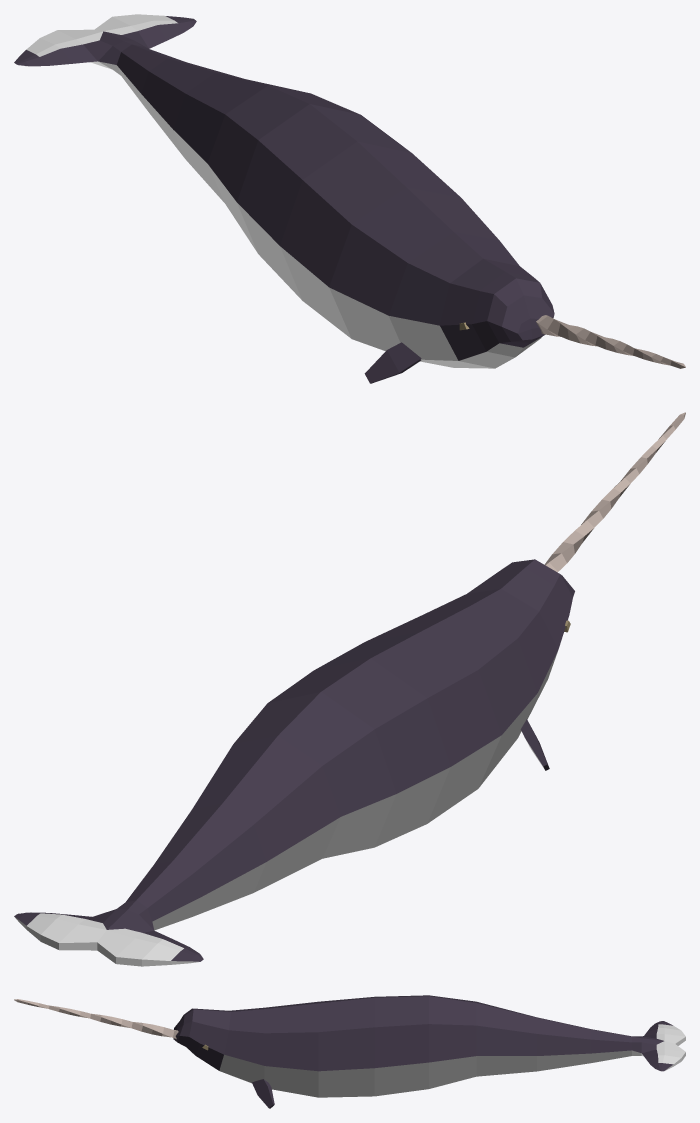
File: Narwhal.glb
3 views of the same model, one above another, from view 1: azimuth 30°, elevation 25°; view 2: azimuth 150°, elevation 25°; view 3: azimuth 270°, elevation 25° (orthographic). The views are drawn at different scales.
Parts seen in each view (by area): view 1: Geo_Narwhal; view 2: Geo_Narwhal; view 3: Geo_Narwhal.
Boxes of the visible parts, x1=… form: Geo_Narwhal: x1=14, y1=14, x2=685, y2=383; Geo_Narwhal: x1=14, y1=412, x2=685, y2=966; Geo_Narwhal: x1=14, y1=995, x2=685, y2=1108.
Size of the model in its own units: 118 by 110 by 669.
1 material, 1 textured.
